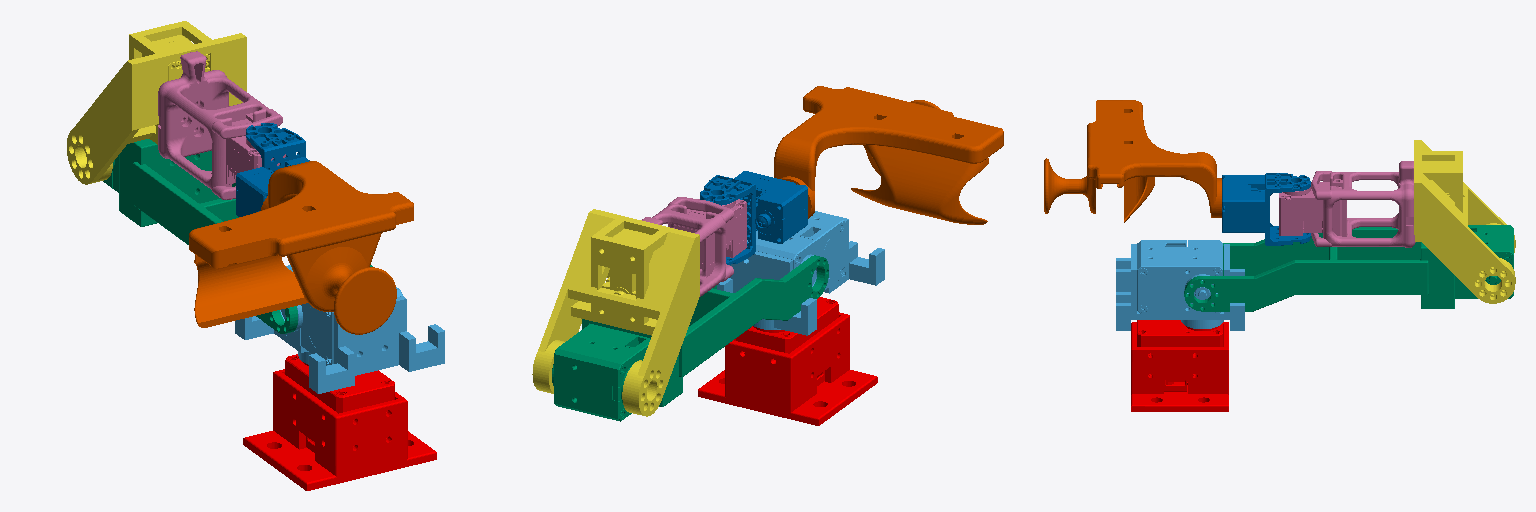
robot.urdf — full_gello_assembly:
<?xml version='1.0' encoding='utf-8'?>
<robot name="full_gello_assembly">
    <link name="base_link">
        <inertial>
            <origin xyz="8.911122943956872e-07 -0.011837831089419675 -0.003443399432013946" rpy="0.0 0.0 0.0" />
            <mass value="0.5355088410811588" />
            <inertia ixx="0.00018950265480252663" iyy="0.0001373564789721666" izz="0.0001920847976815078" ixy="5.096381618953383e-09" iyz="-1.2645871205122656e-06" ixz="3.4236866755339467e-09" />
        </inertial>
        <visual name="base_link_visual">
            <origin xyz="0.0 0.0 0.0" rpy="0.0 0.0 0.0" />
            <geometry>
                <mesh filename="meshes/base_link.stl" scale="0.001 0.001 0.001" />
            </geometry>
            <material name="red">
                <color rgba="1. 0. 0. 1."/>
            </material>
        </visual>
        <collision name="base_link_collision">
            <origin xyz="0.0 0.0 0.0" rpy="0.0 0.0 0.0" />
            <geometry>
                <mesh filename="meshes/base_link.stl" scale="0.001 0.001 0.001" />
            </geometry>
        </collision>
    </link>
    <link name="upper_arm_single_body-v1">
        <inertial>
            <origin xyz="0.00033326073372054335 -0.011349096810954364 0.022452748370503834" rpy="0.0 -0.0 0.0" />
            <mass value="0.109" />
            <inertia ixx="0.00019472525666164526" iyy="0.00011334045114298134" izz="0.00021684289769205526" ixy="6.987973255457208e-08" iyz="3.1210530960795887e-06" ixz="-5.270664658723196e-10" />
        </inertial>
        <visual name="upper_arm_single_body-v1_visual">
            <origin xyz="0.0 0.0 -0.019" rpy="0.0 -0.0 0.0" />
            <geometry>
                <mesh filename="meshes/upper_arm_single_body-v1.stl" scale="0.001 0.001 0.001" />
            </geometry>
        </visual>
        <collision name="upper_arm_single_body-v1_collision">
            <origin xyz="0.0 0.0 -0.019" rpy="0.0 -0.0 0.0" />
            <geometry>
                <mesh filename="meshes/upper_arm_single_body-v1.stl" scale="0.001 0.001 0.001" />
            </geometry>
        </collision>
    </link>
    <link name="upper_arm_2_single_body-v1">
        <inertial>
            <origin xyz="0.008446019770781472 -0.13286838656955429 -0.018743238324083204" rpy="0.0 -0.0 0.0" />
            <mass value="0.112" />
            <inertia ixx="0.0012086615521254007" iyy="0.0001754371686360878" izz="0.0011313683208190612" ixy="4.033887587564719e-05" iyz="3.7687852068339264e-07" ixz="1.6036962859261562e-07" />
        </inertial>
        <visual name="upper_arm_2_single_body-v1_visual">
            <origin xyz="0.0 -4.263256414560601e-16 -0.018999999999999725" rpy="-1.5707963267948966 -2.425837308805972e-14 -1.5707963267948948" />
            <geometry>
                <mesh filename="meshes/upper_arm_2_single_body-v1.stl" scale="0.001 0.001 0.001" />
            </geometry>
        </visual>
        <collision name="upper_arm_2_single_body-v1_collision">
            <origin xyz="0.0 -4.263256414560601e-16 -0.018999999999999725" rpy="-1.5707963267948966 -2.425837308805972e-14 -1.5707963267948948" />
            <geometry>
                <mesh filename="meshes/upper_arm_2_single_body-v1.stl" scale="0.001 0.001 0.001" />
            </geometry>
        </collision>
    </link>
    <link name="elbow_single_body-v1">
        <inertial>
            <origin xyz="-0.0190013306913858 0.03190176492268378 0.02585179571880932" rpy="0.0 -0.0 0.0" />
            <mass value="0.060" />
            <inertia ixx="0.00016552430609303656" iyy="0.00016297281795891582" izz="0.00020616587302901487" ixy="6.851875791530931e-09" iyz="-5.2904284584712025e-05" ixz="5.671293483720143e-09" />
        </inertial>
        <visual name="elbow_single_body-v1_visual">
            <origin xyz="-0.018999999999997286 -0.009000000000000287 0.15717600000000023" rpy="-1.5707963267948963 1.5707963267948868 0" />
            <geometry>
                <mesh filename="meshes/elbow_single_body-v1.stl" scale="0.001 0.001 0.001" />
            </geometry>
        </visual>
        <collision name="elbow_single_body-v1_collision">
            <origin xyz="-0.018999999999997286 -0.009000000000000287 0.15717600000000023" rpy="-1.5707963267948963 1.5707963267948868 0" />
            <geometry>
                <mesh filename="meshes/elbow_single_body-v1.stl" scale="0.001 0.001 0.001" />
            </geometry>
        </collision>
    </link>
    <link name="wrist_one_body-v1">
        <inertial>
            <origin xyz="-0.006281936225336011 0.026439423361127045 0.014496512300920406" rpy="-1.057930647999068e-76 -0.0 0.0" />
            <mass value="0.031" />
            <inertia ixx="2.002790762664507e-05" iyy="2.0247617719982842e-05" izz="2.586562329982096e-05" ixy="2.674502224782251e-06" iyz="4.0247606707620666e-09" ixz="3.052971119123958e-09" />
        </inertial>
        <visual name="wrist_one_body-v1_visual">
            <origin xyz="1.8829382497642656e-15 0.013999999999999289 0.014500000000002866" rpy="-1.9682104583540626e-15 1.5707963267948957 0" />
            <geometry>
                <mesh filename="meshes/wrist_one_body-v1.stl" scale="0.001 0.001 0.001" />
            </geometry>
        </visual>
        <collision name="wrist_one_body-v1_collision">
            <origin xyz="1.8829382497642656e-15 0.013999999999999289 0.014500000000002866" rpy="-1.9682104583540626e-15 1.5707963267948957 0" />
            <geometry>
                <mesh filename="meshes/wrist_one_body-v1.stl" scale="0.001 0.001 0.001" />
            </geometry>
        </collision>
    </link>
    <link name="joylo_holder-v1">
        <inertial>
            <origin xyz="0.0012434601961666188 -0.02099473368713256 0.06729597795823606" rpy="0.0 -2.6720333580835114e-48 0.0" />
            <!-- <origin xyz="-0.012434601961666188 -0.02099473368713256 0.04729597795823606" rpy="0.0 -2.6720333580835114e-48 0.0" /> -->
            <!-- <mass value="0.080" /> -->
            <mass value="0.05" />
            <inertia ixx="0.00035478126388715646" iyy="0.00021855578110229515" izz="0.00023677772730071295" ixy="1.591213408700917e-05" iyz="3.136923742750506e-05" ixz="-8.817531785510598e-06" />
        </inertial>
        <visual name="joylo_holder-v1_visual">
            <origin xyz="-0.025199999999997398 -0.07230699999999736 0.050000000000001495" rpy="-1.5707963267948966 -1.5707963267948697 0" />
            <geometry>
                <mesh filename="meshes/joylo_holder-v1.stl" scale="0.001 0.001 0.001" />
            </geometry>
        </visual>
        <collision name="joylo_holder-v1_collision">
            <origin xyz="-0.025199999999997398 -0.07230699999999736 0.050000000000001495" rpy="-1.5707963267948966 -1.5707963267948697 0" />
            <geometry>
                <mesh filename="meshes/joylo_holder-v1.stl" scale="0.001 0.001 0.001" />
            </geometry>
        </collision>
    </link>
    <link name="l4_single_body-v1">
        <inertial>
            <origin xyz="-0.00010674701059402381 0.03428529037097469 -0.000596499457020524" rpy="0.0 -0.0 0.0" />
            <mass value="0.039" />
            <inertia ixx="0.00016115973086454436" iyy="3.8162056763737595e-05" izz="0.0001534195473975068" ixy="2.2490475649525853e-07" iyz="-1.1893594840258343e-06" ixz="4.2665816597058404e-09" />
        </inertial>
        <visual name="l4_single_body-v1_visual">
            <origin xyz="1.1901590823981679e-15 -0.007500000000000569 3.2082027193290973e-15" rpy="-1.5707963267948948 -1.5707963267948963 0" />
            <geometry>
                <mesh filename="meshes/l4_single_body-v1.stl" scale="0.001 0.001 0.001" />
            </geometry>
        </visual>
        <collision name="l4_single_body-v1_collision">
            <origin xyz="1.1901590823981679e-15 -0.007500000000000569 3.2082027193290973e-15" rpy="-1.5707963267948948 -1.5707963267948963 0" />
            <geometry>
                <mesh filename="meshes/l4_single_body-v1.stl" scale="0.001 0.001 0.001" />
            </geometry>
        </collision>
    </link>
    <joint name="base_link_base_to_upper_arm" type="revolute">
        <origin xyz="0.0 0.0 0.019" rpy="0.0 -0.0 0.0" />
        <parent link="base_link" />
        <child link="upper_arm_single_body-v1" />
        <axis xyz="0.0 0.0 1.0" />
        <limit lower="-1.570796" upper="1.570796" effort="0.92" velocity="6.8" />
    </joint>
    <joint name="upper_arm_single_body-v1_upper_arm_to_upper_arm_2" type="revolute">
        <origin xyz="0.019 0.0 0.025675000000000003" rpy="-3.141592653589793 -1.5707963267948966 0" />
        <parent link="upper_arm_single_body-v1" />
        <child link="upper_arm_2_single_body-v1" />
        <axis xyz="0.0 0.0 1.0" />
        <limit lower="0.0" upper="3.141593" effort="0.92" velocity="6.8" />
    </joint>
    <joint name="upper_arm_2_single_body-v1_upper_arm_2_to_elbow" type="revolute">
        <origin xyz="0.008999999999999994 -0.156976 0.0" rpy="-1.5707963267948968 -1.5707963267948966 0" />
        <parent link="upper_arm_2_single_body-v1" />
        <child link="elbow_single_body-v1" />
        <axis xyz="1.0 1.2325951644077924e-32 -3.1363800445660633e-15" />
        <limit lower="-3.3161" upper="0.0" effort="0.92" velocity="6.8" />
    </joint>
    <joint name="wrist_one_body-v1_wrist_to_joylo" type="revolute">
        <origin xyz="-0.014499999999999994 0.04300000000000001 0.014499999999999966" rpy="-1.5707963267948821 -1.570796326794896 0" />
        <parent link="wrist_one_body-v1" />
        <child link="joylo_holder-v1" />
        <axis xyz="-2.7480576602647654e-32 -1.4461312833836658e-14 -1.0" />
        <limit lower="-2.8798" upper="2.879793" effort="0.92" velocity="6.8" />
    </joint>
    <joint name="elbow_single_body-v1_elbow_to_forearm" type="revolute">
        <origin xyz="-0.018999999999999854 0.03150000000000001 0.04580000000000002" rpy="1.5707963267948968 -1.2246467991473591e-16 0" />
        <parent link="elbow_single_body-v1" />
        <child link="l4_single_body-v1" />
        <axis xyz="0.0 -1.0 2.2204460492503082e-16" />
        <limit lower="-1.570796" upper="1.570796" effort="0.92" velocity="6.8" />
    </joint>
    <joint name="l4_single_body-v1_forearm_to_wrist" type="revolute">
        <origin xyz="-0.000127000000000006 0.0605 -0.014373000000000014" rpy="5.689893001203932e-16 -4.379057701014995e-47 -3.944304526105059e-31" />
        <parent link="l4_single_body-v1" />
        <child link="wrist_one_body-v1" />
        <axis xyz="-4.3790577010150533e-47 7.91033905045423e-16 1.0" />
        <limit lower="-1.6581" upper="1.6581" effort="0.92" velocity="6.8" />
    </joint>
</robot>

--- Render facts (derived) ---
3 views of the same robot in one strip: view 1: azimuth 30°, elevation 25°; view 2: azimuth 150°, elevation 25°; view 3: azimuth 270°, elevation 25° (orthographic).
Model full_gello_assembly with 7 links and 6 joints (6 revolute), rooted at base_link, posed every joint at zero.
Visible links, largest first — view 1: joylo_holder-v1, base_link, elbow_single_body-v1, l4_single_body-v1, upper_arm_single_body-v1, upper_arm_2_single_body-v1, wrist_one_body-v1; view 2: elbow_single_body-v1, joylo_holder-v1, upper_arm_2_single_body-v1, base_link, upper_arm_single_body-v1, wrist_one_body-v1, l4_single_body-v1; view 3: upper_arm_2_single_body-v1, joylo_holder-v1, elbow_single_body-v1, base_link, upper_arm_single_body-v1, l4_single_body-v1, wrist_one_body-v1.
Boxes of the visible links, left/top/right/bottom form: joylo_holder-v1: left=189, top=161, right=413, bottom=334; base_link: left=243, top=354, right=436, bottom=490; elbow_single_body-v1: left=67, top=21, right=246, bottom=184; l4_single_body-v1: left=158, top=51, right=285, bottom=199; upper_arm_single_body-v1: left=235, top=265, right=444, bottom=393; upper_arm_2_single_body-v1: left=103, top=139, right=372, bottom=333; wrist_one_body-v1: left=236, top=123, right=309, bottom=216; elbow_single_body-v1: left=532, top=209, right=699, bottom=416; joylo_holder-v1: left=774, top=86, right=1003, bottom=224; upper_arm_2_single_body-v1: left=552, top=255, right=828, bottom=421; base_link: left=698, top=297, right=877, bottom=425; upper_arm_single_body-v1: left=717, top=211, right=884, bottom=335; wrist_one_body-v1: left=700, top=171, right=807, bottom=264; l4_single_body-v1: left=642, top=197, right=746, bottom=297; upper_arm_2_single_body-v1: left=1184, top=225, right=1513, bottom=311; joylo_holder-v1: left=1044, top=100, right=1221, bottom=222; elbow_single_body-v1: left=1414, top=140, right=1515, bottom=303; base_link: left=1131, top=320, right=1228, bottom=411; upper_arm_single_body-v1: left=1116, top=240, right=1244, bottom=330; l4_single_body-v1: left=1279, top=161, right=1415, bottom=247; wrist_one_body-v1: left=1222, top=173, right=1310, bottom=245.
Bounding box of the posed robot: 0.1184 × 0.2543 × 0.1341 m (x, y, z).
7 mesh visuals loaded from 7 distinct referenced files (7 binary STL).
